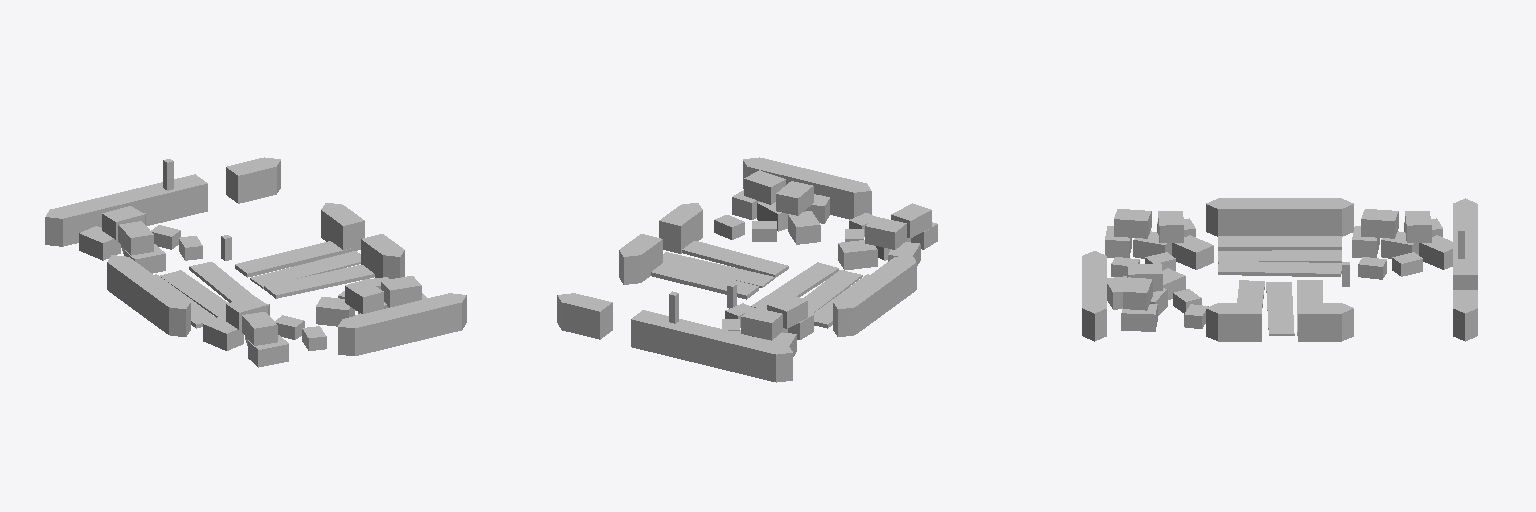
Rendered from Casa 7 Rota.obj.
3 views of the same model, side by side, from view 1: azimuth 30°, elevation 25°; view 2: azimuth 150°, elevation 25°; view 3: azimuth 270°, elevation 25° (orthographic).
Size of the model in its own units: 2.21 by 0.5 by 3.21.